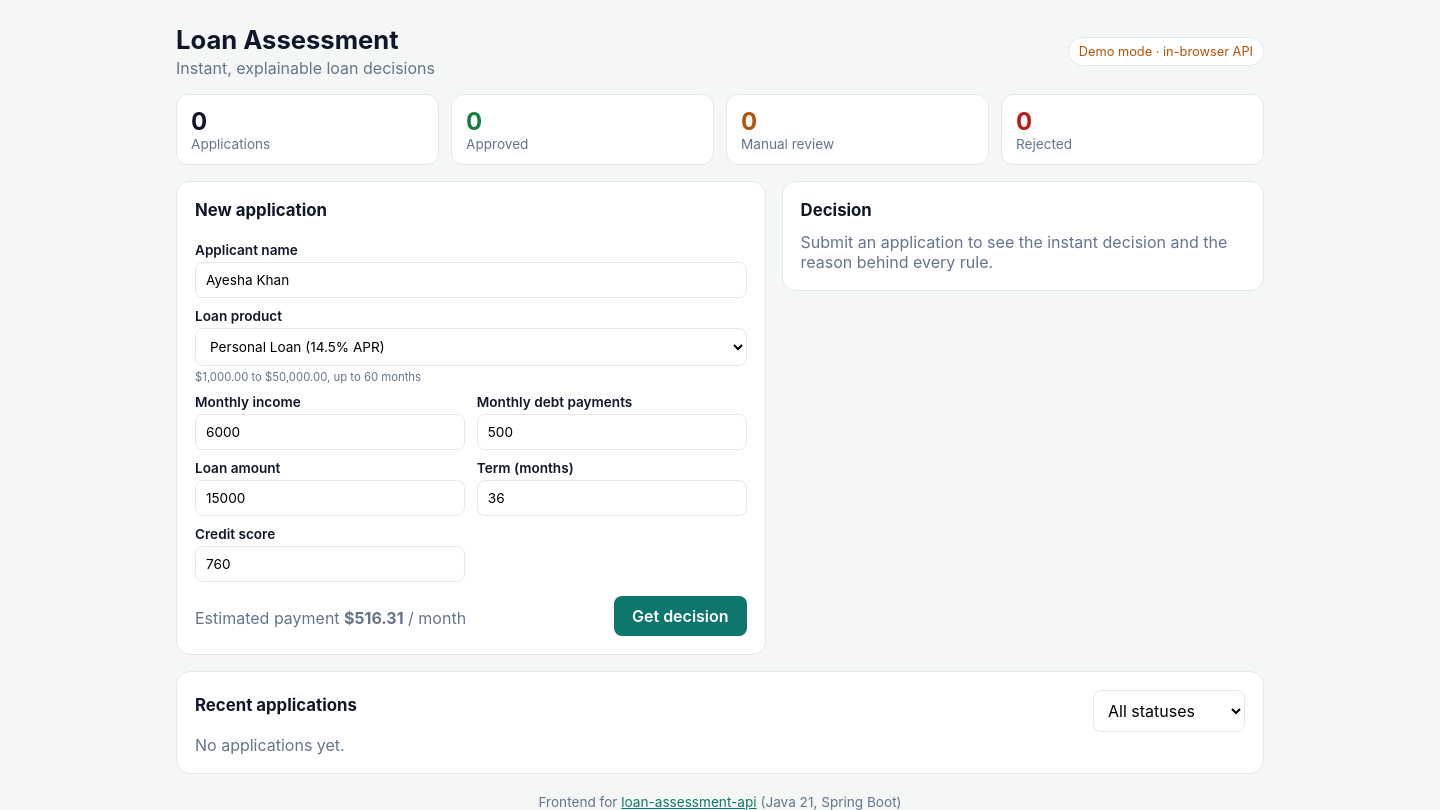
Test: App › filters the history by status
Click the button "Get decision".
click(680, 616)  # box [614,596,747,636]
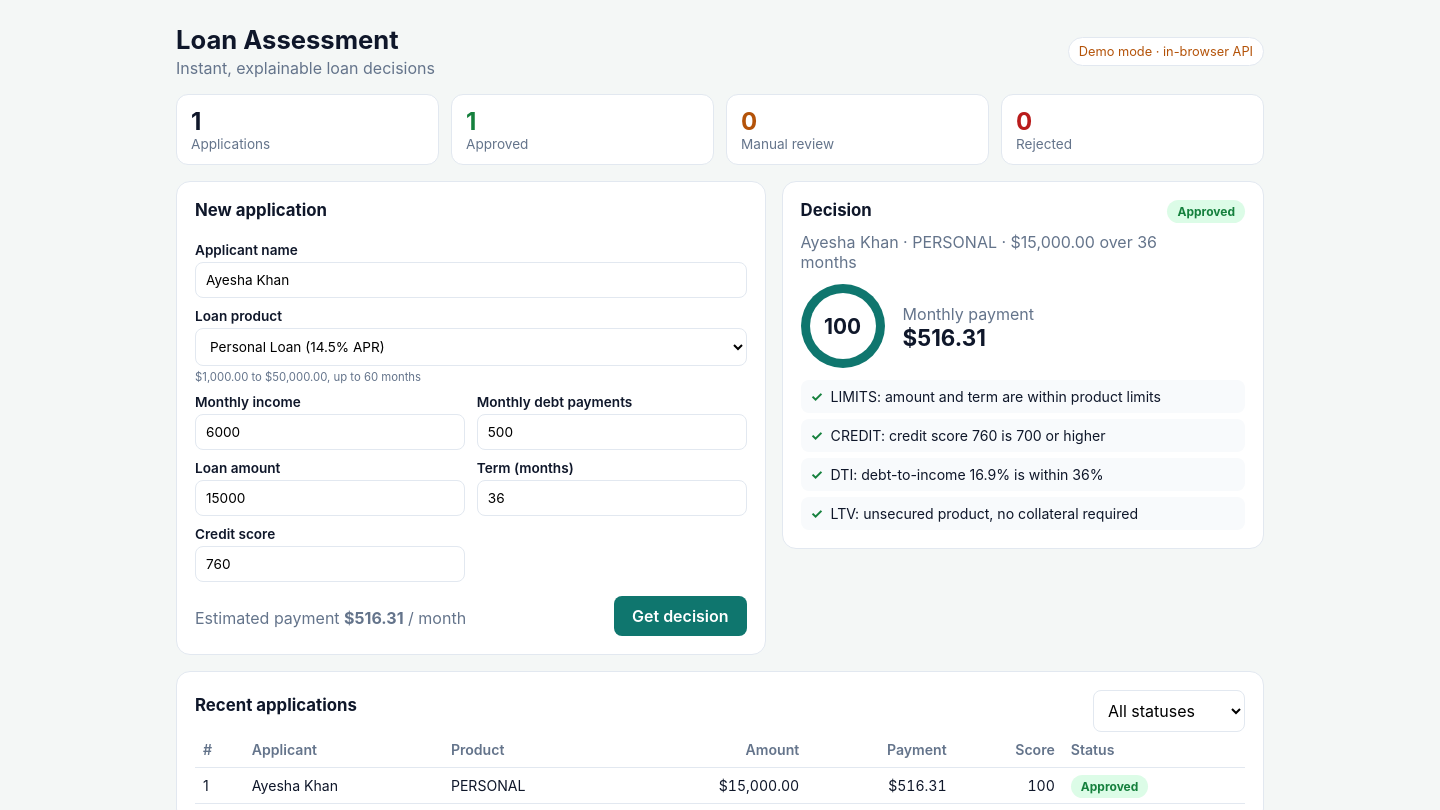
Replace the text in the number field labelled "Credit score" with "500" at (330, 564), box [195,546,465,582]
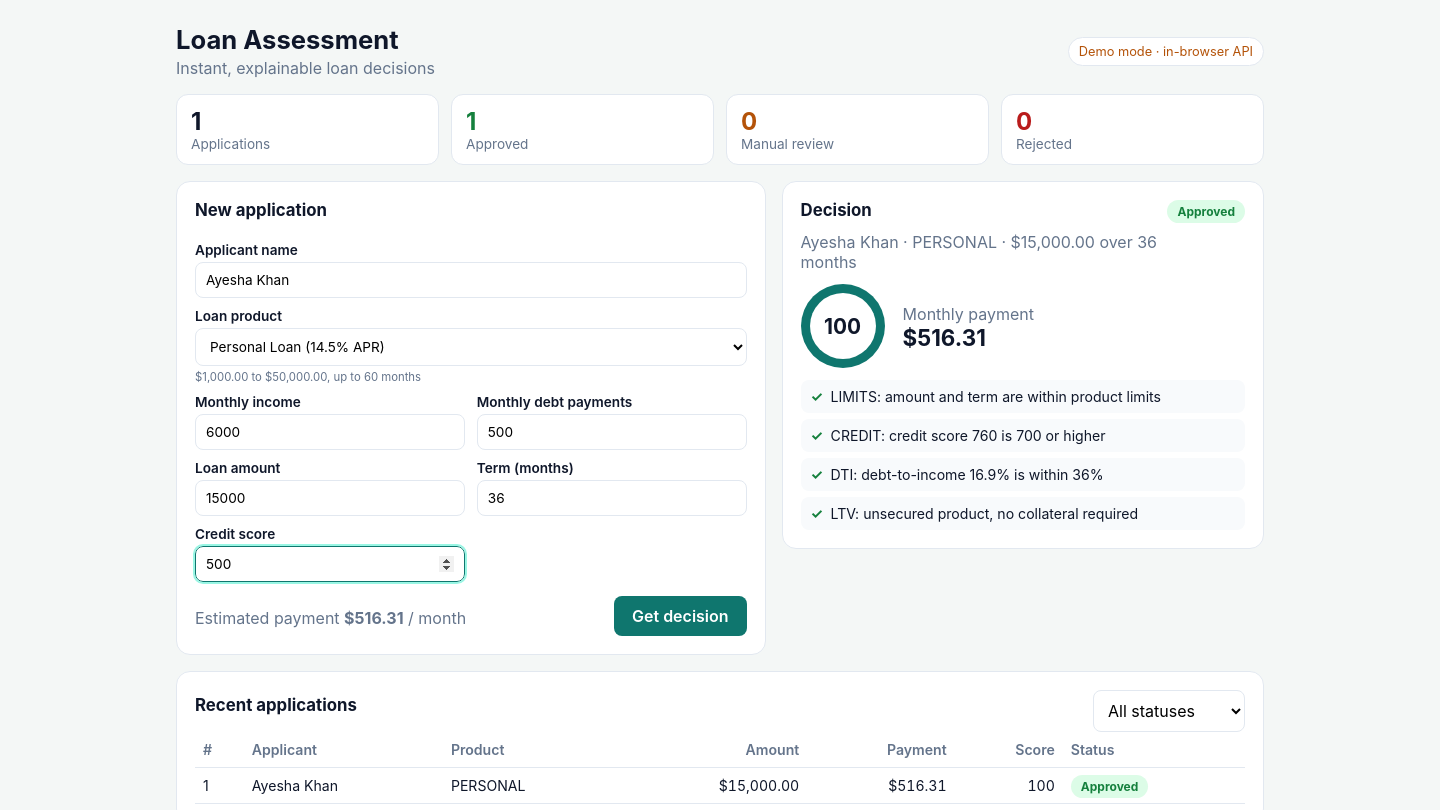
Click the button "Get decision".
click(680, 616)  # box [614,596,747,636]
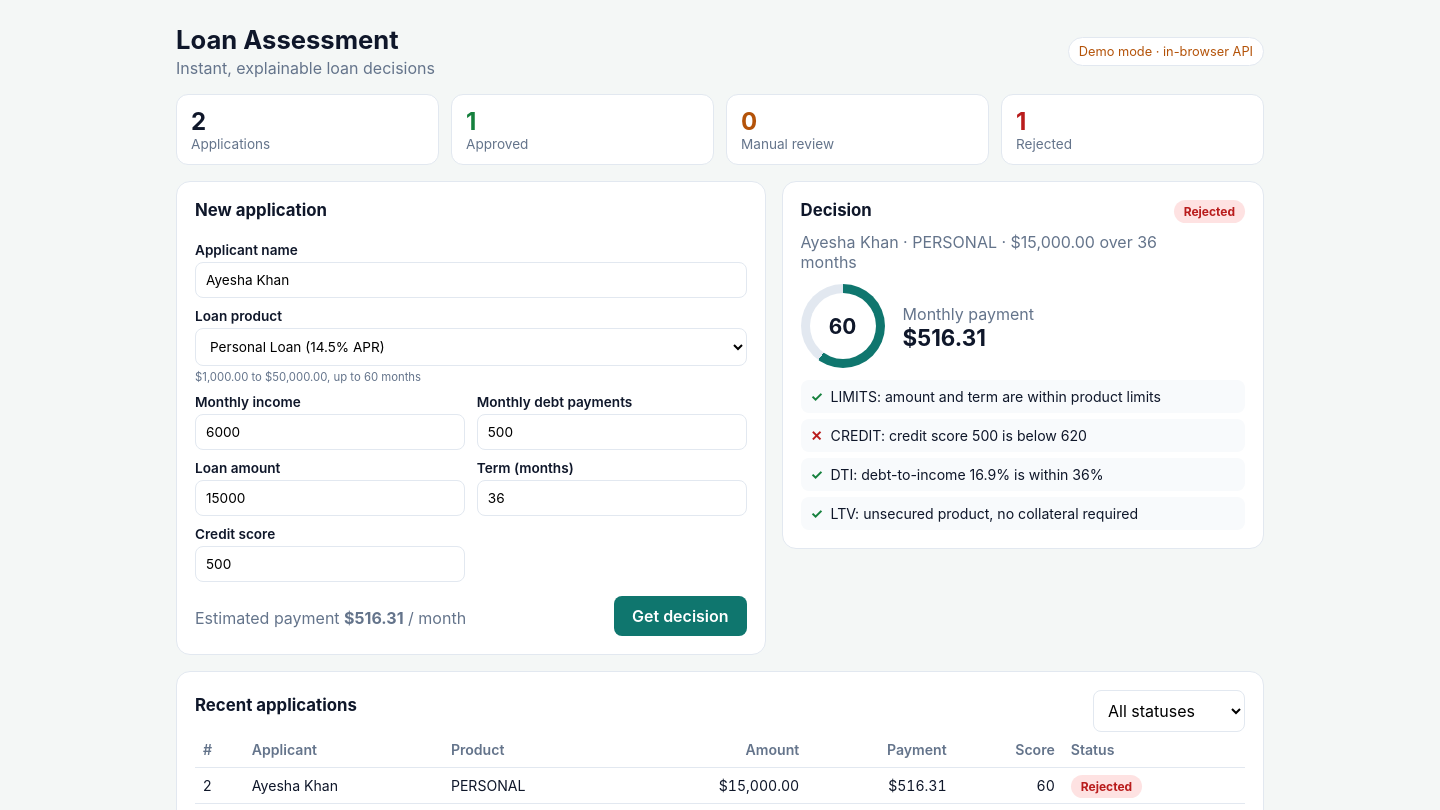
Select "Rejected" in the dropdown named "filter by status" at (1169, 711), box [1093,690,1245,732]
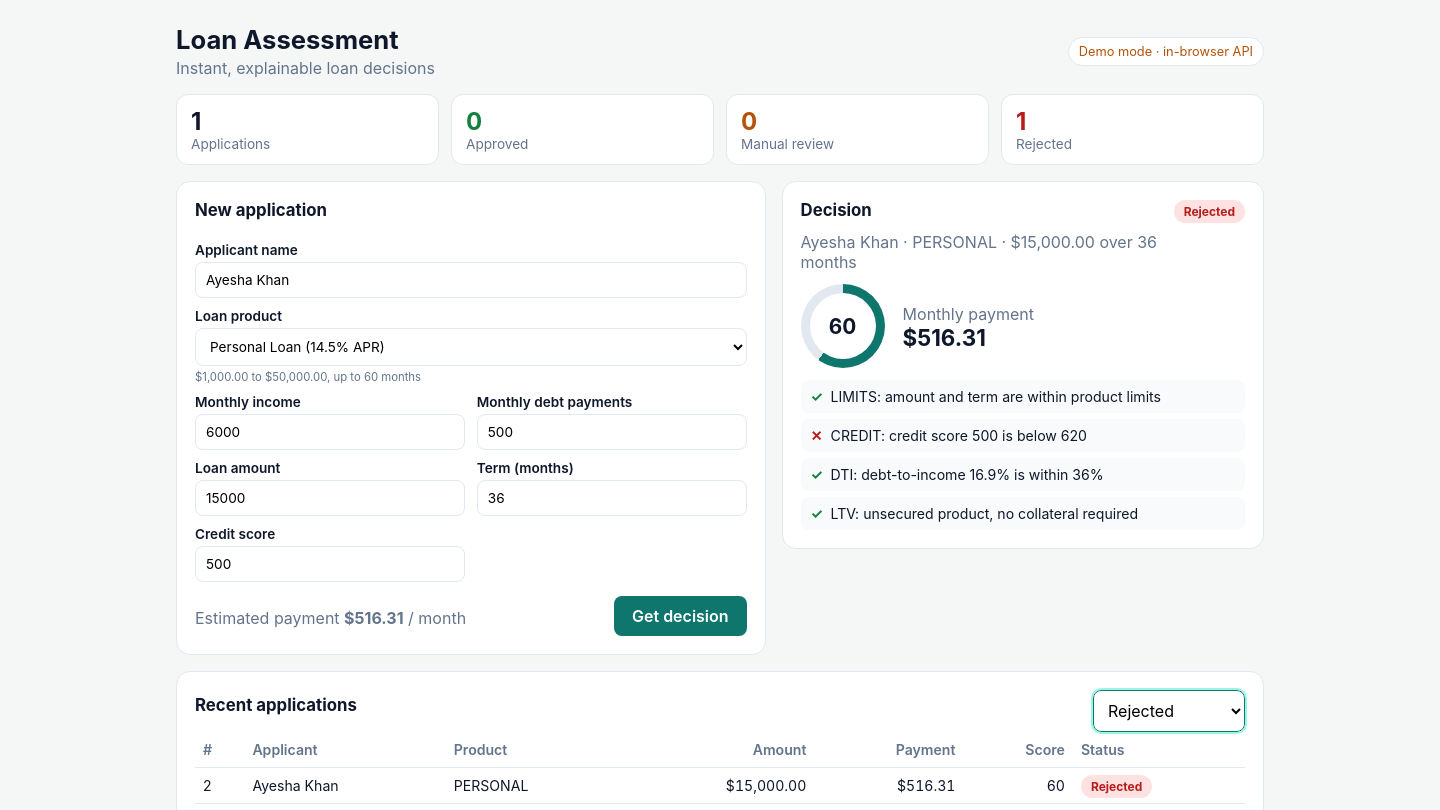
Now the number of rows is 2, box [195,732,1245,768]; [195,768,1245,804]
